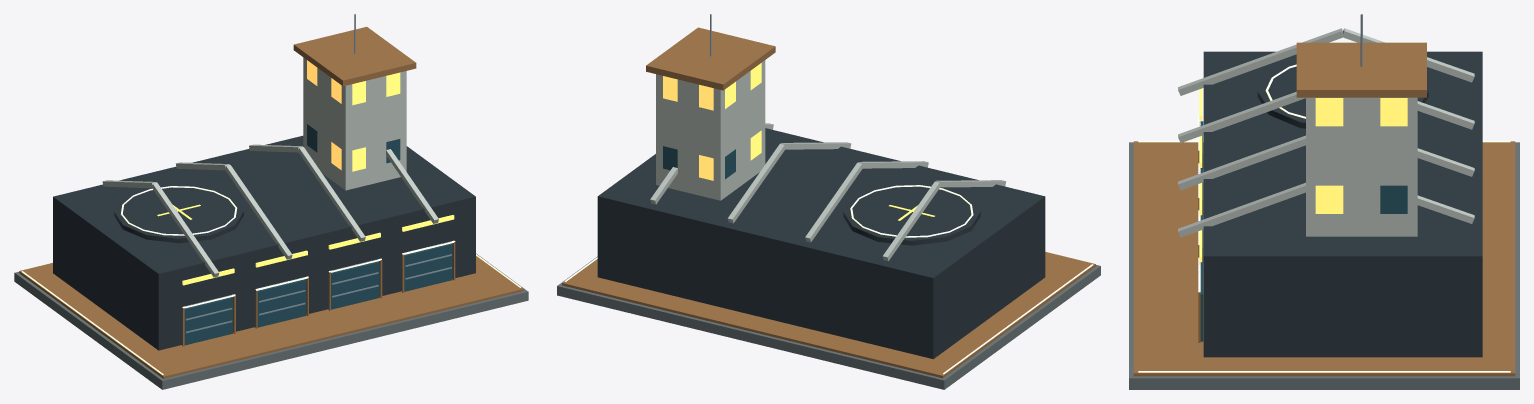
File: mission-terminal.lod2.glb
The picture shows the model from 3 angles, left to right: view 1: azimuth 30°, elevation 25°; view 2: azimuth 150°, elevation 25°; view 3: azimuth 270°, elevation 25°; orthographic projection. The views are drawn at different scales.
Visible parts, largest first — view 1: structure; view 2: structure; view 3: structure.
Boxes of the visible parts, x1,y1,x2,y2 form: structure: (14,14,528,389); structure: (557,14,1100,389); structure: (1129,14,1519,389).
Bounding box in the file's own units: 30 × 19 × 21.
